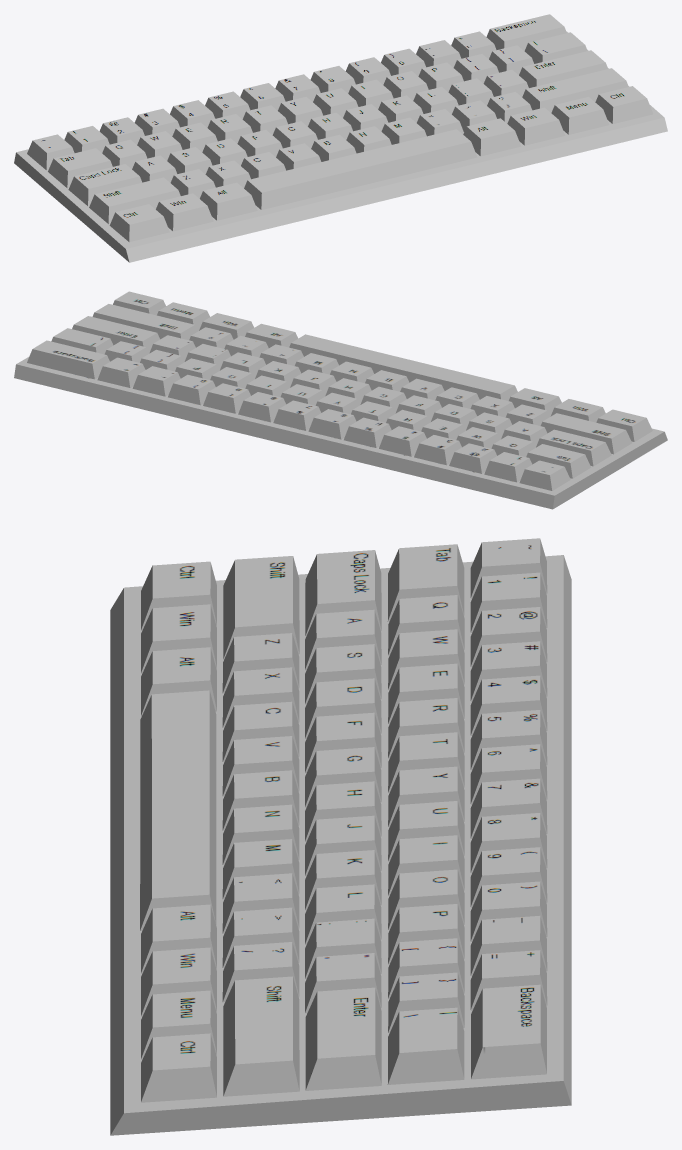
The model's file is keyboard.gltf.
3 renders of one model, top to bottom at view 1: azimuth 30°, elevation 25°; view 2: azimuth 150°, elevation 25°; view 3: azimuth 270°, elevation 25°, orthographic. The views are drawn at different scales.
Visible parts, largest first — view 1: KeyboardProper2022; view 2: KeyboardProper2022; view 3: KeyboardProper2022.
Part boxes in pixels (x1=…): KeyboardProper2022: x1=14, y1=14, x2=667, y2=262; KeyboardProper2022: x1=14, y1=291, x2=667, y2=509; KeyboardProper2022: x1=110, y1=538, x2=571, y2=1135.
Size of the model in its own units: 0.4256 by 0.0314 by 0.1578.
Materials: 1 (1 with a texture image).
